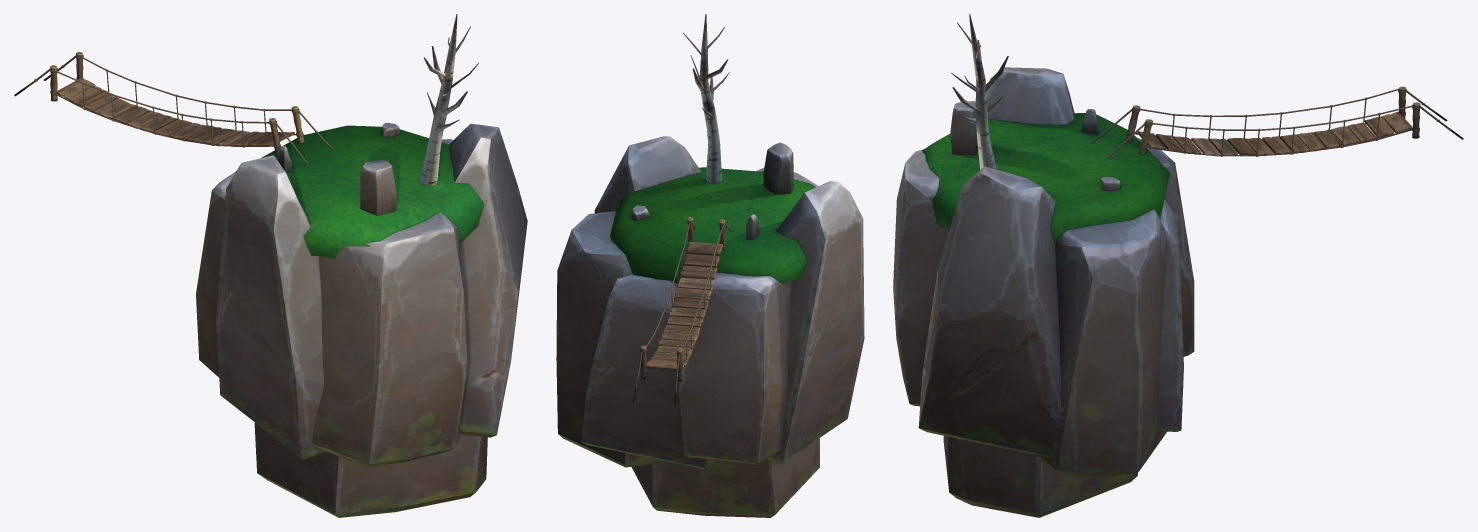
The picture shows the model from 3 angles, left to right: view 1: azimuth 30°, elevation 25°; view 2: azimuth 150°, elevation 25°; view 3: azimuth 270°, elevation 25°; orthographic projection. The views are drawn at different scales.
Visible parts, largest first — view 1: island_1; view 2: island_1; view 3: island_1.
Part boxes in pixels (x1,y1,x2,y2): island_1: (14, 14, 527, 517); island_1: (556, 14, 864, 517); island_1: (893, 14, 1463, 517).
Bounding box in the file's own units: 10.51 × 16.38 × 17.37.
Materials: 1 (1 with a texture image).
